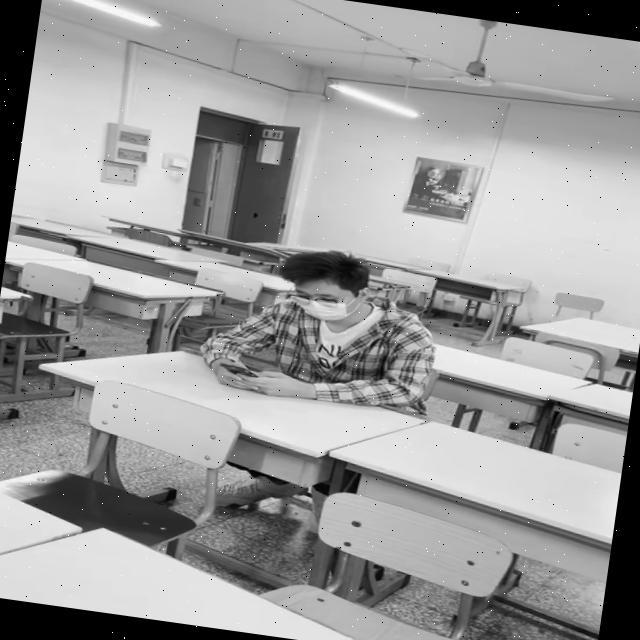phone: (194, 235, 449, 414)
